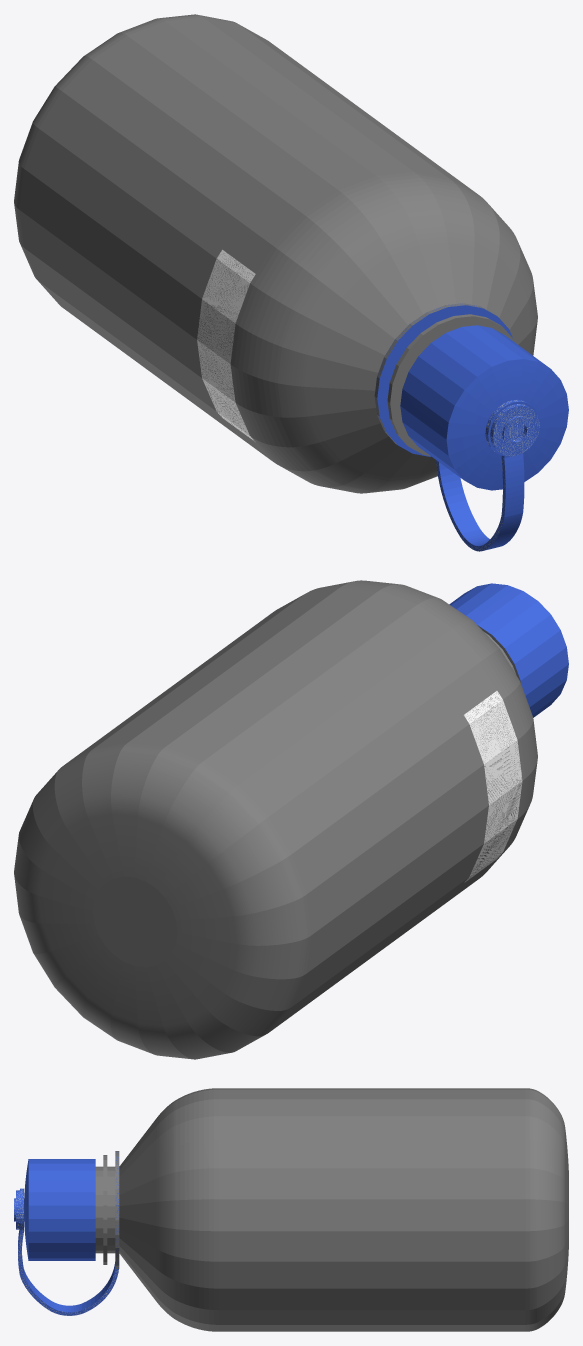
3 renders of one model, top to bottom at view 1: azimuth 30°, elevation 25°; view 2: azimuth 150°, elevation 25°; view 3: azimuth 270°, elevation 25°, orthographic. The views are drawn at different scales.
Parts seen in each view (by area): view 1: nalgene water bottle; view 2: nalgene water bottle; view 3: nalgene water bottle.
Boxes of the visible parts, bbox=[...] form: nalgene water bottle: bbox=[14, 14, 568, 551]; nalgene water bottle: bbox=[14, 580, 568, 1059]; nalgene water bottle: bbox=[14, 1088, 568, 1331].
Size of the model in its own units: 3.88 by 3.88 by 8.79.
